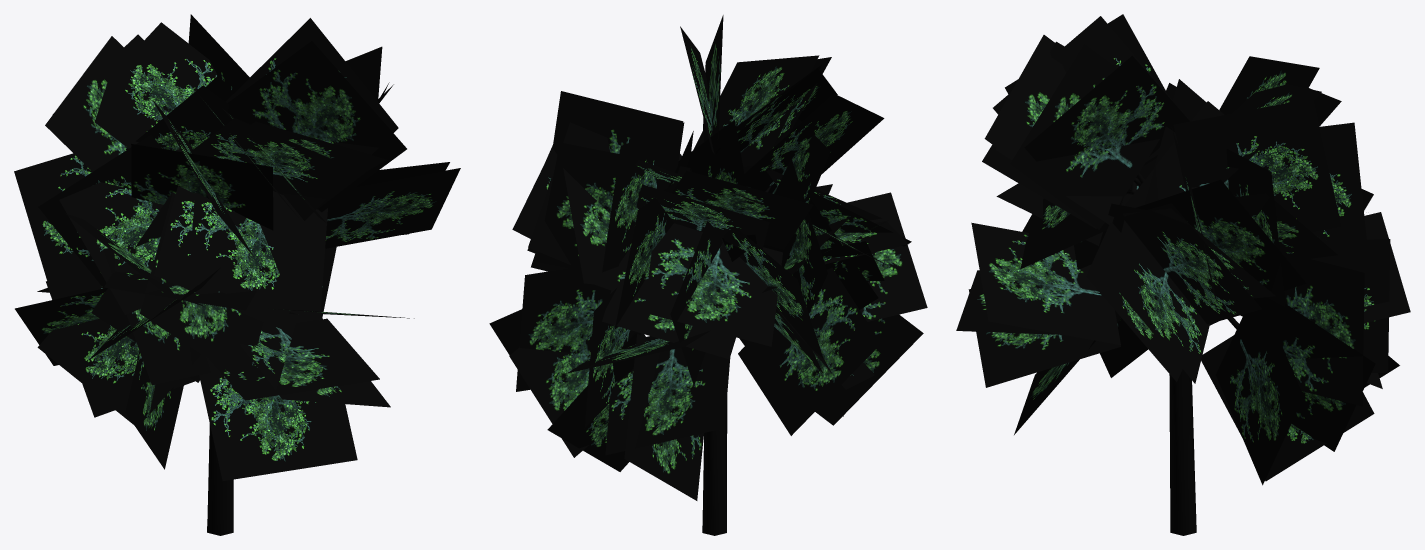
File: tree73.glb
The picture shows the model from 3 angles, left to right: view 1: azimuth 30°, elevation 25°; view 2: azimuth 150°, elevation 25°; view 3: azimuth 270°, elevation 25°; orthographic projection. The views are drawn at different scales.
Size of the model in its own units: 5.74 by 7.04 by 5.74.
2 materials, 1 textured.
